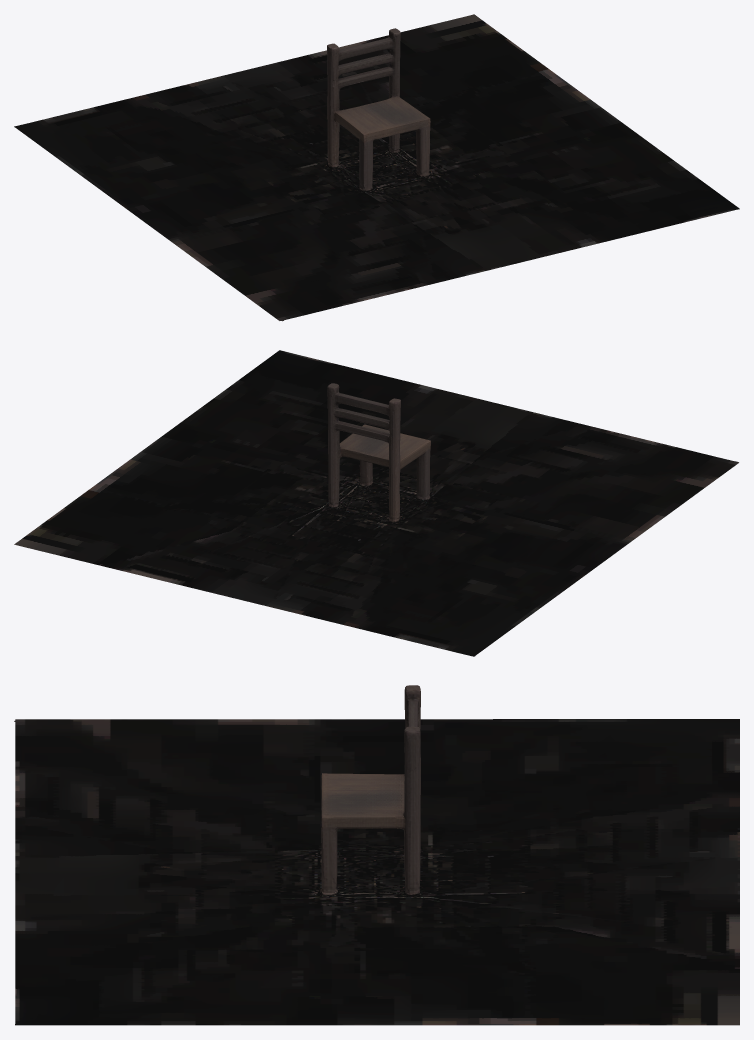
The model's file is Chair.glb.
3 renders of one model, top to bottom at view 1: azimuth 30°, elevation 25°; view 2: azimuth 150°, elevation 25°; view 3: azimuth 270°, elevation 25°, orthographic. The views are drawn at different scales.
Visible parts, largest first — view 1: world; view 2: world; view 3: world.
Boxes of the visible parts, box(x1,y1,x2,y2) form: world: box(14, 14, 739, 321); world: box(14, 350, 738, 656); world: box(14, 685, 739, 1025).
Size of the model in its own units: 1 by 0.2505 by 1.
1 material, 1 textured.
